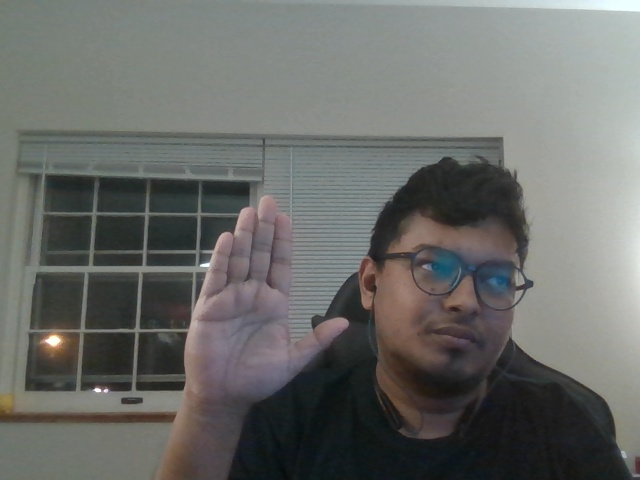hello: (162, 181, 360, 404)
